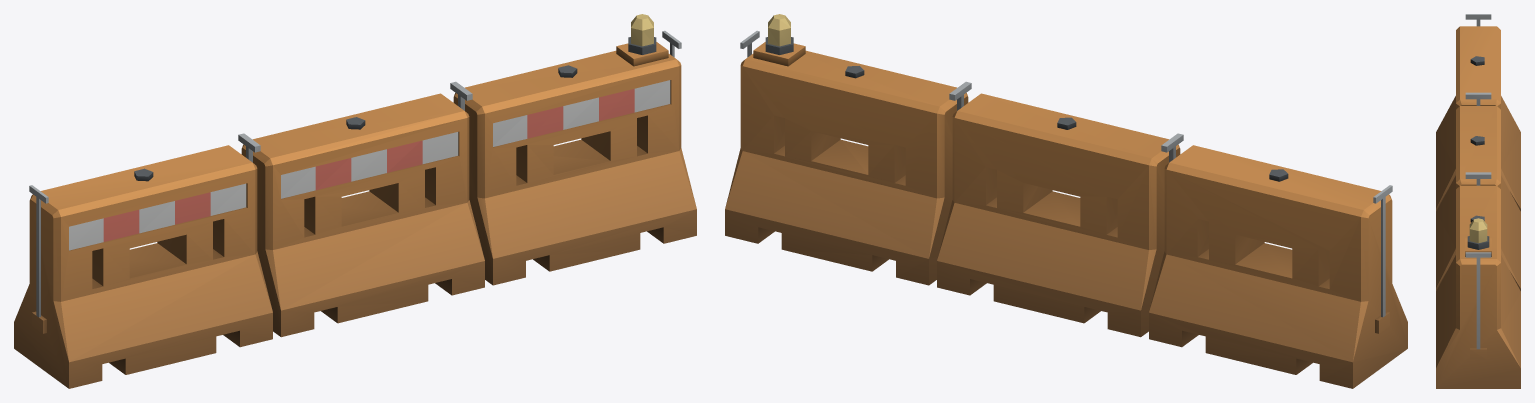
Rendered from barrier.glb.
3 renders of one model, left to right at view 1: azimuth 30°, elevation 25°; view 2: azimuth 150°, elevation 25°; view 3: azimuth 270°, elevation 25°, orthographic. The views are drawn at different scales.
Visible parts, largest first — view 1: barrier.001; view 2: barrier.001; view 3: barrier.001.
Part boxes in pixels (bbox=[...]): barrier.001: bbox=[14, 14, 696, 388]; barrier.001: bbox=[725, 14, 1407, 388]; barrier.001: bbox=[1436, 14, 1520, 388].
Size of the model in its own units: 4 by 1.24 by 0.6.
